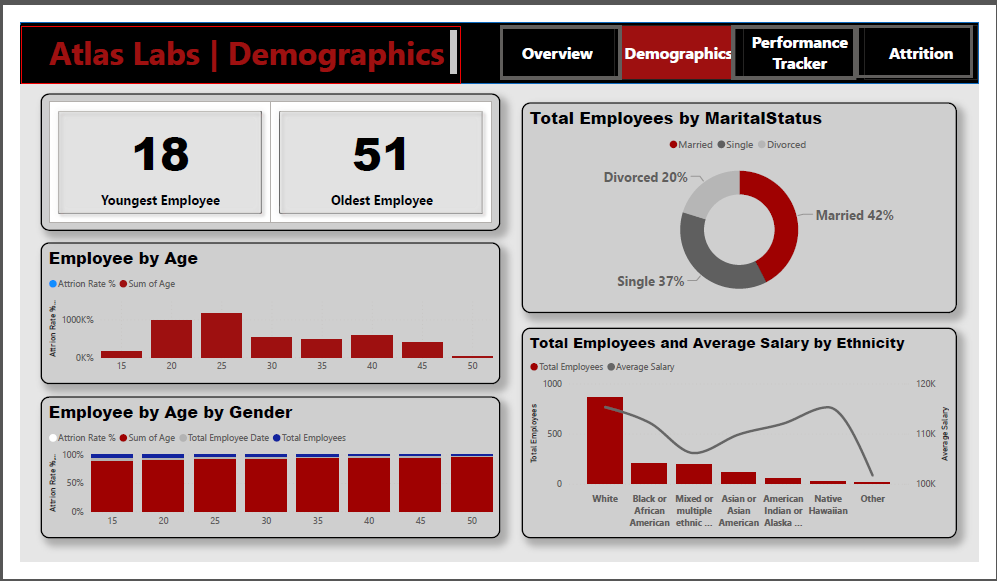

This screenshot's page, from the dashboard's own definition file:
{"tool":"powerbi","page":{"name":"Demographics","canvas":[1280,720],"ordinal":1},"visuals":[{"type":"shape","box":[0,0,1279.8,80.8],"z":0},{"type":"pageNavigator","box":[640.8,2.9,639.4,72],"z":1000},{"type":"actionButton","box":[640.8,4.3,161.3,70.6],"z":2000},{"type":"actionButton","box":[950.4,4.3,165.6,70.6],"z":3000},{"type":"actionButton","box":[1116,2.9,155.5,70.6],"z":4000},{"type":"textbox","box":[0,4.3,587.5,76.3],"z":5000},{"type":"cardVisual","fields":{"Data":["Min(DimEmployee.Age)","Max(DimEmployee.Age)"]},"box":[25.5,93.5,615.1,184.3],"z":6000},{"type":"columnChart","title":"Employee by Age","fields":{"Category":["DimEmployee.Age (bins) 2"],"Y":["_Measures.Attrion Rate %","Sum(DimEmployee.Age)"]},"box":[25.5,293.4,615.1,189.9],"z":7000},{"type":"hundredPercentStackedColumnChart","title":"Employee by Age by Gender","fields":{"Category":["DimEmployee.Age (bins) 2"],"Y":["_Measures.Attrion Rate %","Sum(DimEmployee.Age)","_Measures.Total Employee Date","_Measures.Total Employees"]},"box":[25.5,498.9,615.1,189.9],"z":8000},{"type":"donutChart","fields":{"Y":["_Measures.Total Employees"],"Category":["DimEmployee.MaritalStatus"]},"box":[669,106.3,582.5,282],"z":9000},{"type":"lineStackedColumnComboChart","fields":{"Y":["_Measures.Total Employees"],"Y2":["_Measures.Average Salary"],"Category":["DimEmployee.Ethnicity"]},"box":[669,406.8,582.5,282],"z":10000}]}

Visuals, with their boxes on the page's 1280x720 design canvas (x1, y1, x2, y2). These are canvas units, not pixel positions in the 997x581 screenshot, which may show the page scaled, cropped or inside an application window:
shape: x1=0, y1=0, x2=1280, y2=81
pageNavigator: x1=641, y1=3, x2=1280, y2=75
actionButton: x1=641, y1=4, x2=802, y2=75
actionButton: x1=950, y1=4, x2=1116, y2=75
actionButton: x1=1116, y1=3, x2=1272, y2=74
textbox: x1=0, y1=4, x2=588, y2=81
cardVisual - Min(DimEmployee.Age) x Max(DimEmployee.Age): x1=26, y1=94, x2=641, y2=278
"Employee by Age" columnChart: x1=26, y1=293, x2=641, y2=483
"Employee by Age by Gender" hundredPercentStackedColumnChart: x1=26, y1=499, x2=641, y2=689
donutChart - _Measures.Total Employees x DimEmployee.MaritalStatus: x1=669, y1=106, x2=1252, y2=388
lineStackedColumnComboChart - _Measures.Total Employees x _Measures.Average Salary: x1=669, y1=407, x2=1252, y2=689
